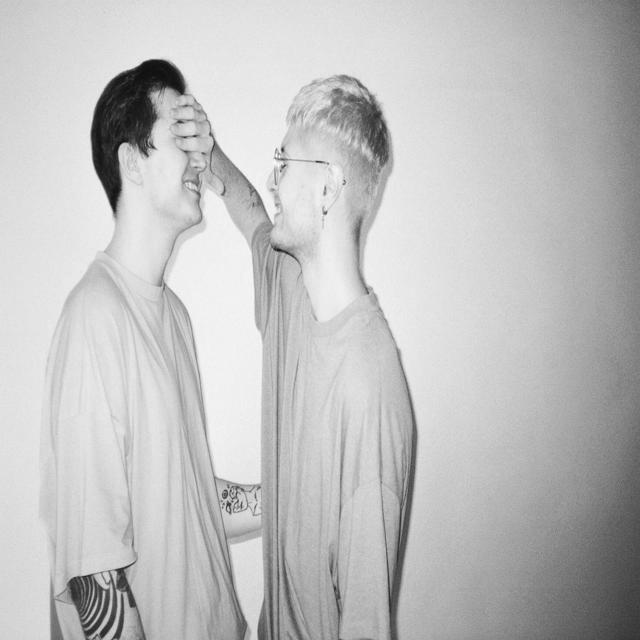Happiness: (262, 123, 326, 260), (148, 90, 210, 228)
